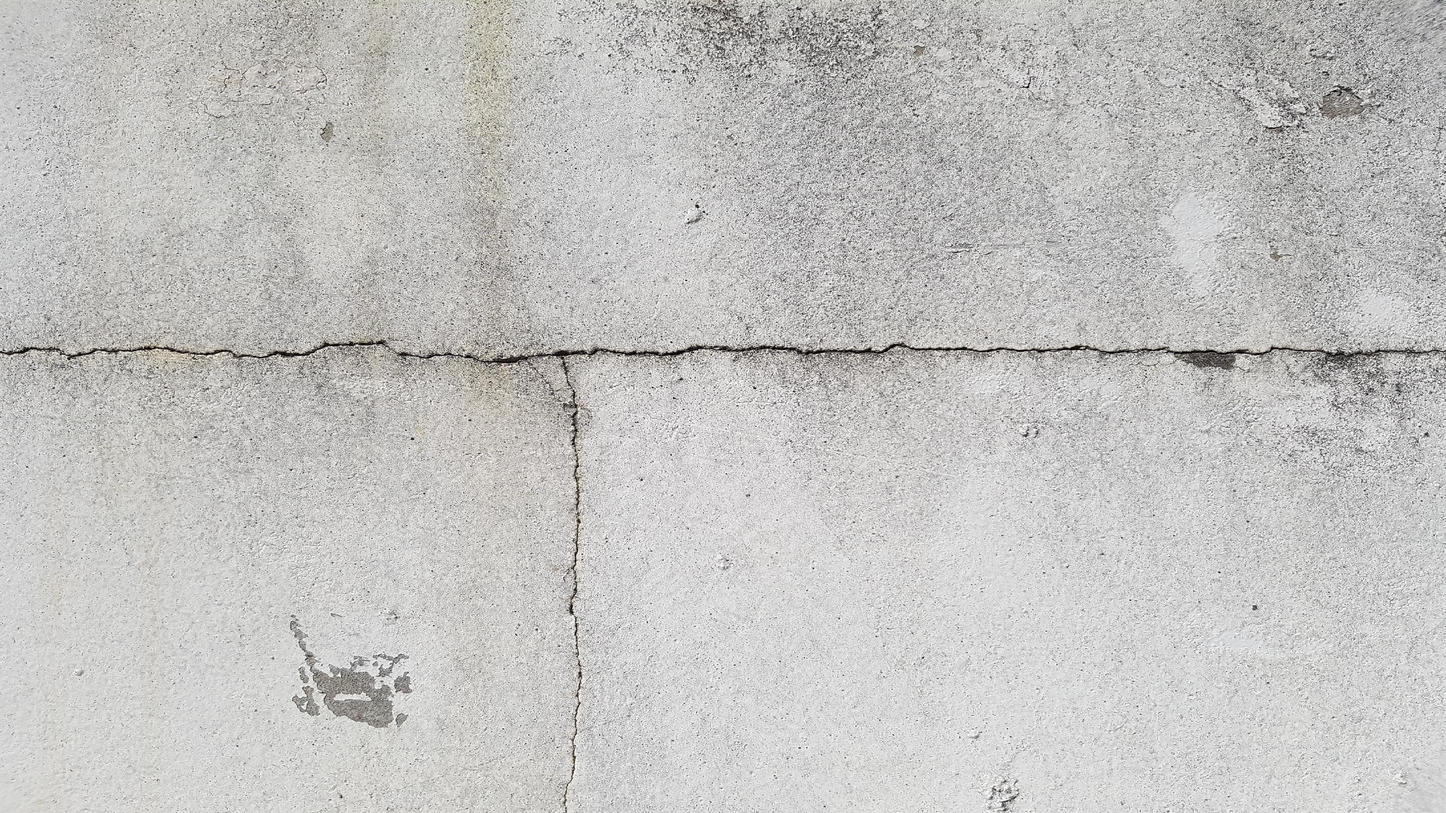crack: (10, 342, 1445, 365), (562, 360, 583, 812)
